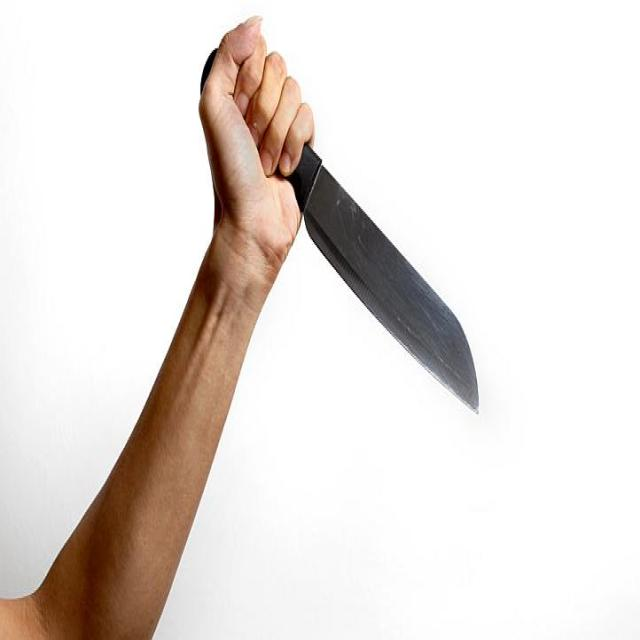knife: (303, 142, 488, 425)
